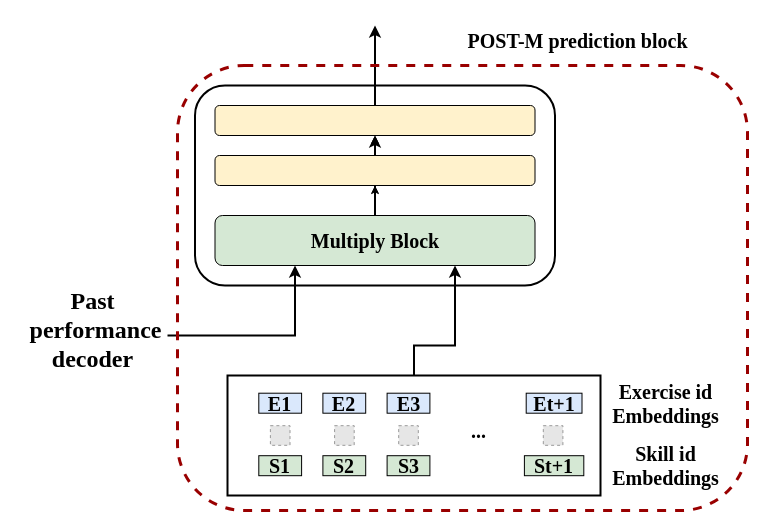
Some shapes in this 766 by 529 pixel diagram are drawn without their labels. Grey dashed boxes stand in for pictures. The centre of each missing label's shape, as x and y in pixels:
"Feed Forward" belongs at (374,170).
"Sigmoid" belongs at (374,120).
